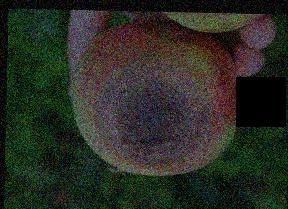rotten apple: (68, 18, 248, 183)
